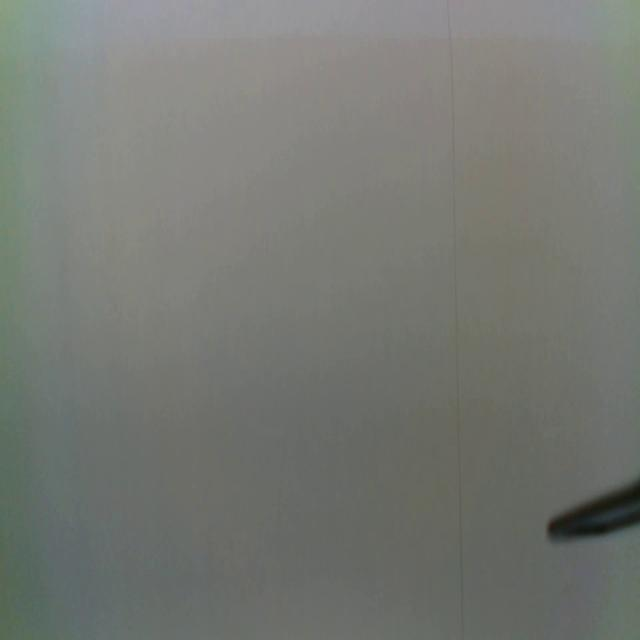crease: (444, 0, 467, 640)
